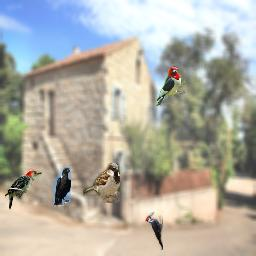Crow: (53, 167, 71, 207)
Sparrow: (83, 163, 120, 203)
Woodpecker: (5, 170, 42, 210), (155, 66, 185, 106), (145, 212, 163, 250)
